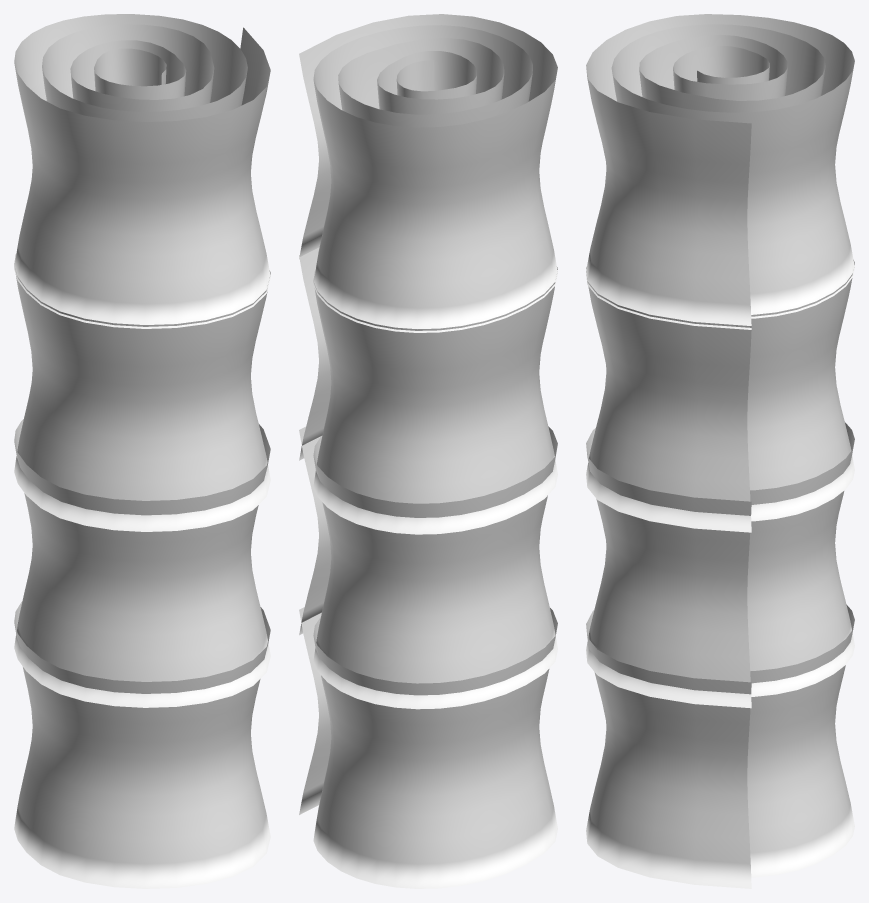
The model's file is Soap1.fbx.
3 views of the same model, side by side, from view 1: azimuth 30°, elevation 25°; view 2: azimuth 150°, elevation 25°; view 3: azimuth 270°, elevation 25° (orthographic).
Visible parts, largest first — view 1: soap.004; view 2: soap.004; view 3: soap.004.
Part boxes in pixels (bbox=[...]): soap.004: bbox=[14, 14, 270, 888]; soap.004: bbox=[299, 14, 557, 888]; soap.004: bbox=[586, 14, 854, 888].
Size of the model in its own units: 161 by 523 by 167.
1 material, 1 textured.
